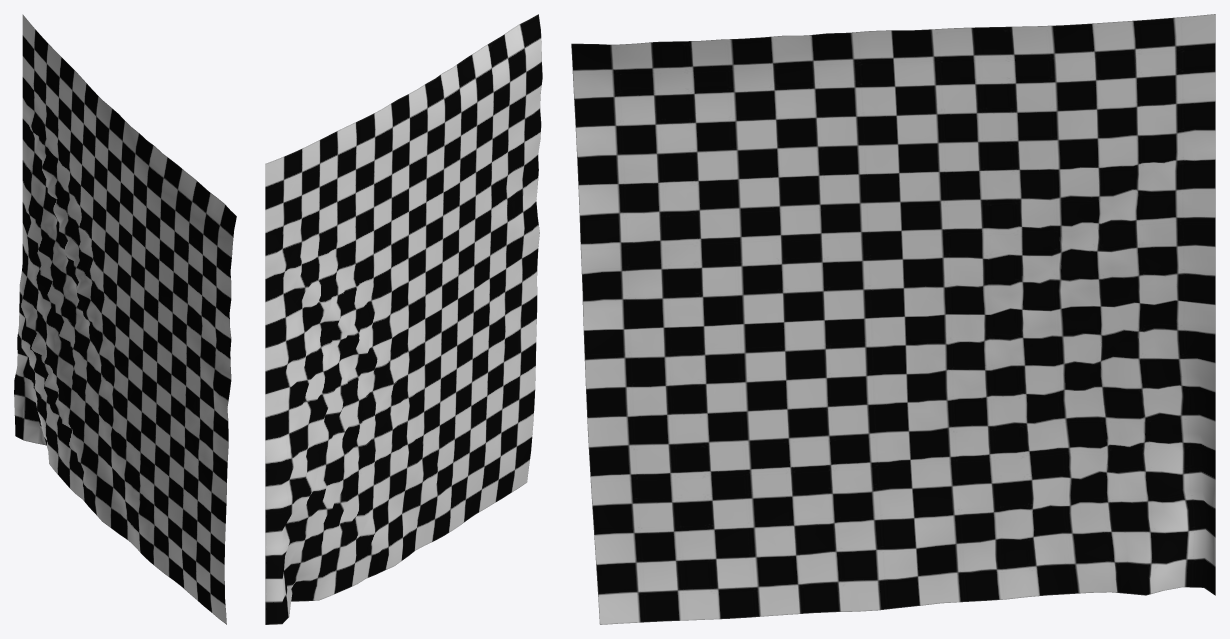
Rendered from SimpleFlagPrototyp.fbx.
3 views of the same model, side by side, from view 1: azimuth 30°, elevation 25°; view 2: azimuth 150°, elevation 25°; view 3: azimuth 270°, elevation 25° (orthographic). The views are drawn at different scales.
Visible parts, largest first — view 1: Grid; view 2: Grid; view 3: Grid.
Part boxes in pixels (box(x1,y1,x2,y2)): Grid: box(14, 14, 236, 624); Grid: box(265, 14, 542, 624); Grid: box(571, 14, 1215, 624).
Size of the model in its own units: 12.91 by 214 by 201.
